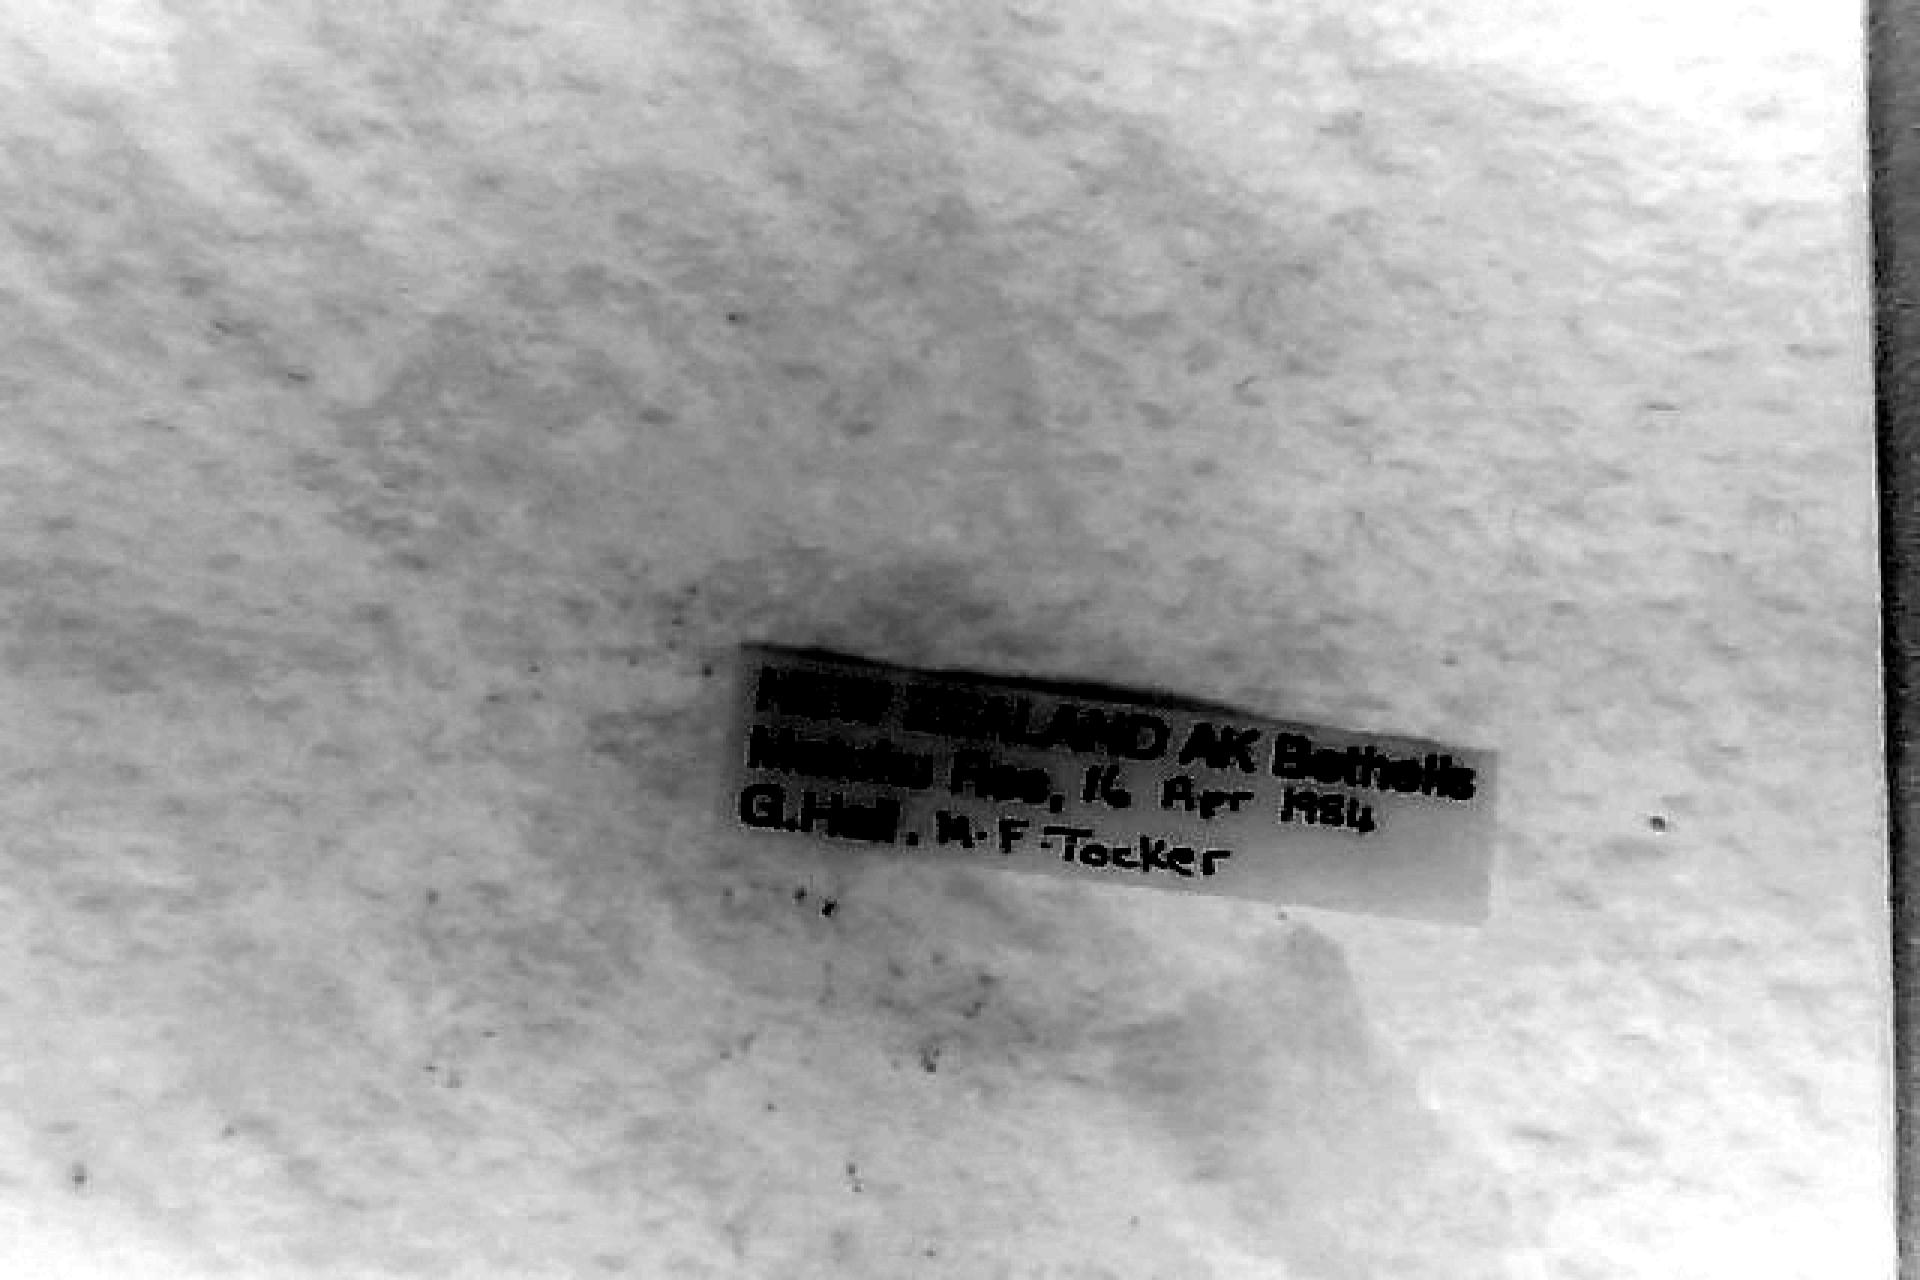mixed_label: (728, 647, 1496, 918)
